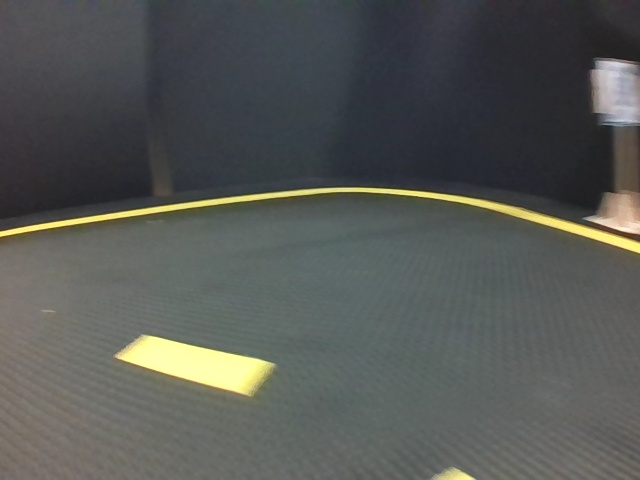no30: (598, 59, 640, 121)
